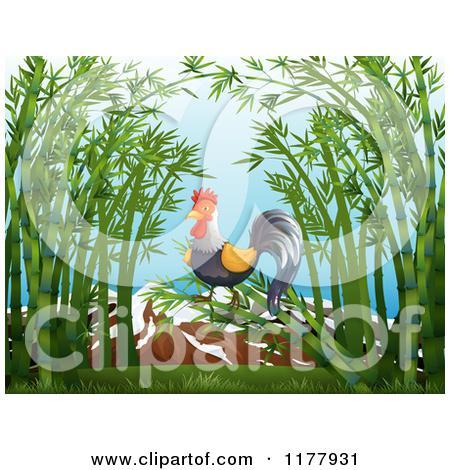bird: (181, 187, 300, 318)
